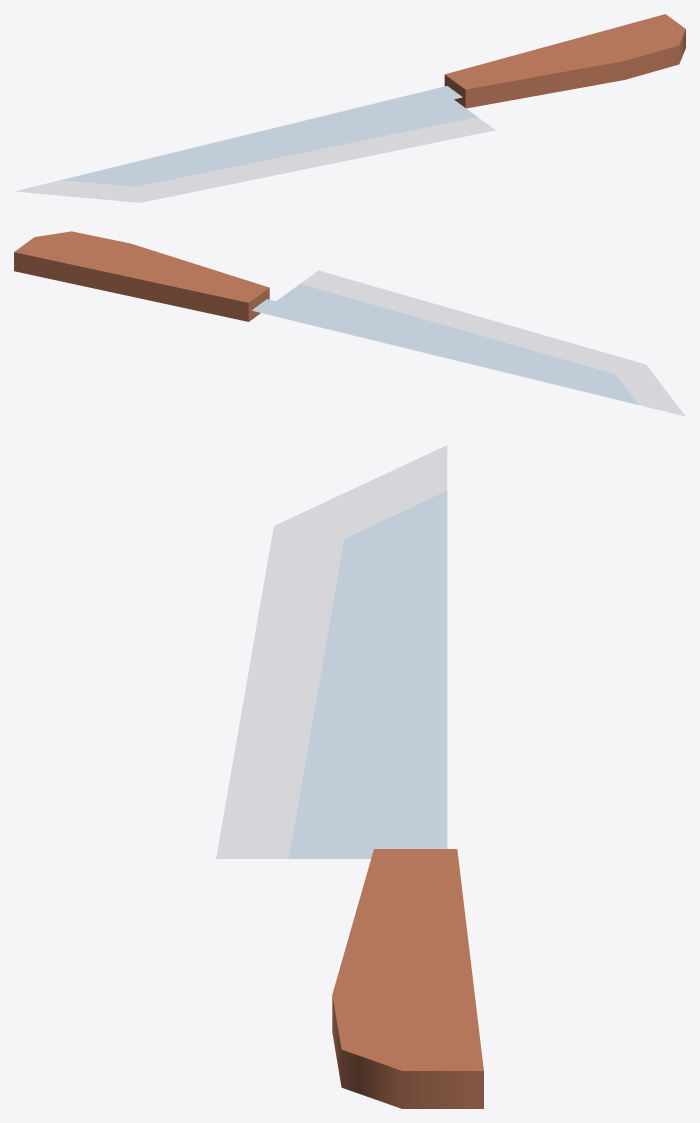
File: cookingKnife.obj
The picture shows the model from 3 angles, top to bottom: view 1: azimuth 30°, elevation 25°; view 2: azimuth 150°, elevation 25°; view 3: azimuth 270°, elevation 25°; orthographic projection. The views are drawn at different scales.
Visible parts, largest first — view 1: cookingKnife; view 2: cookingKnife; view 3: cookingKnife.
Part boxes in pixels (<box>): cookingKnife: <box>14,14,685,202</box>; cookingKnife: <box>14,231,685,416</box>; cookingKnife: <box>216,445,483,1108</box>.
Size of the model in its own units: 0.7262 by 0.02 by 0.1275.
